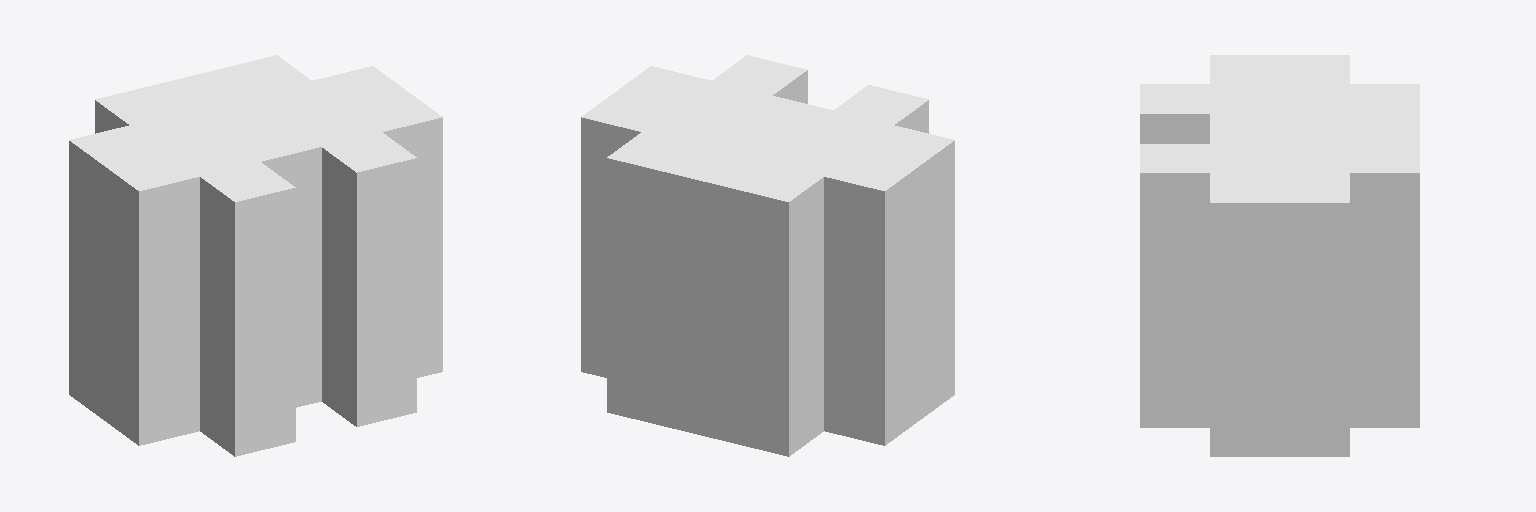
File: SH_Soldier-11-Spine_02.obj
3 renders of one model, left to right at view 1: azimuth 30°, elevation 25°; view 2: azimuth 150°, elevation 25°; view 3: azimuth 270°, elevation 25°, orthographic.
Visible parts, largest first — view 1: Spine_02; view 2: Spine_02; view 3: Spine_02.
Part boxes in pixels (x1,y1,x2,y2): Spine_02: (69, 55, 442, 456); Spine_02: (581, 55, 954, 456); Spine_02: (1140, 55, 1419, 456).
Bounding box in the file's own units: 0.5 × 0.4 × 0.4.